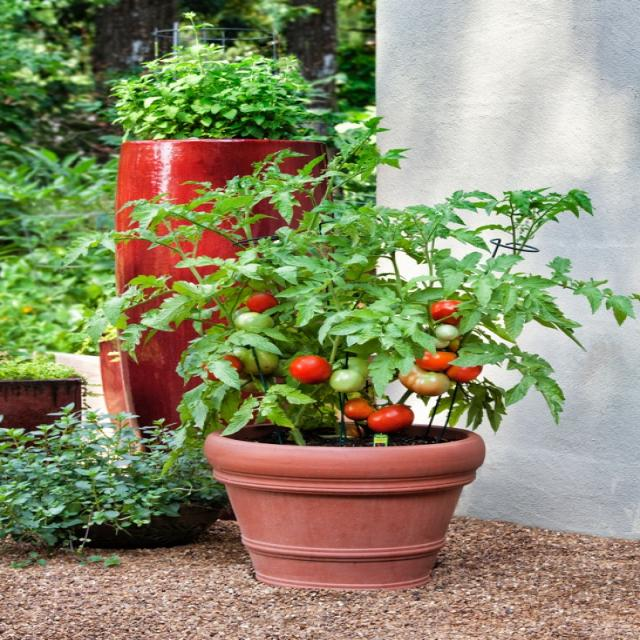level 2: (330, 356, 376, 380), (239, 349, 282, 374), (329, 368, 365, 394), (236, 312, 276, 335), (222, 347, 254, 369), (420, 327, 450, 350), (436, 323, 459, 341)
level 3: (402, 366, 451, 395)
level 6: (366, 404, 416, 432), (290, 355, 332, 384), (201, 354, 244, 381), (431, 299, 472, 324), (416, 348, 458, 371), (447, 361, 484, 381), (344, 399, 375, 421), (248, 293, 278, 312)
